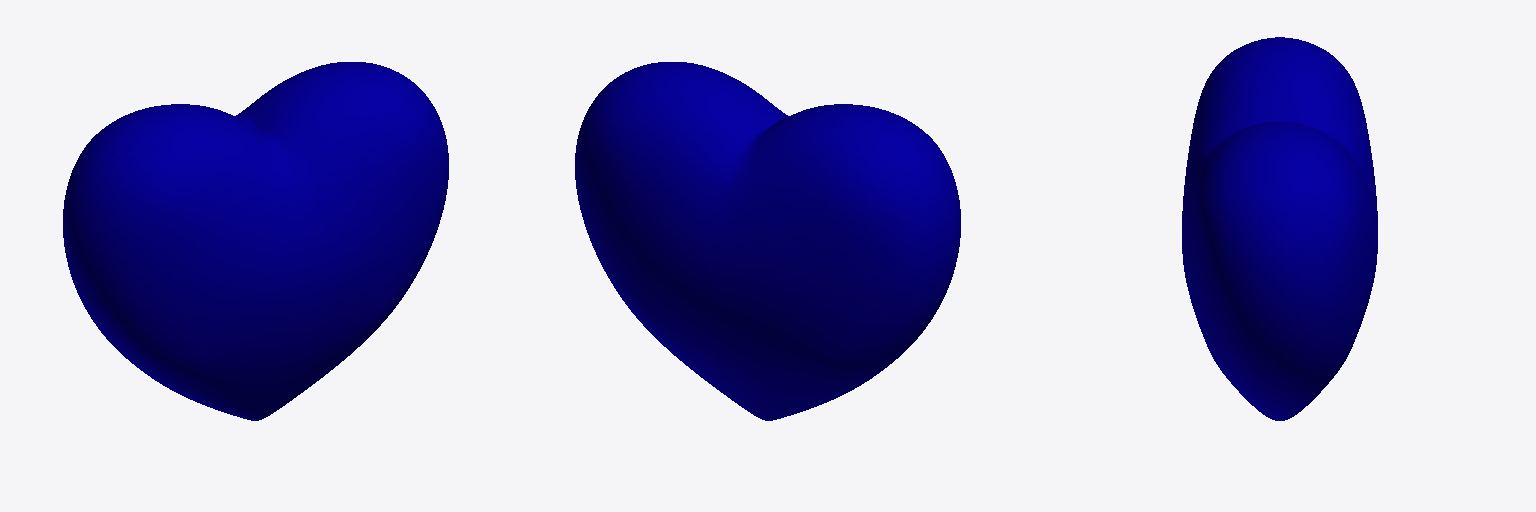
Rendered from love_heart_blue.obj.
3 views of the same model, side by side, from view 1: azimuth 30°, elevation 25°; view 2: azimuth 150°, elevation 25°; view 3: azimuth 270°, elevation 25° (orthographic).
Parts seen in each view (by area): view 1: Vert; view 2: Vert; view 3: Vert.
Boxes of the visible parts, x1=… form: Vert: x1=63, y1=62, x2=448, y2=420; Vert: x1=575, y1=62, x2=960, y2=420; Vert: x1=1182, y1=37, x2=1377, y2=420.
Bounding box in the file's own units: 0.6772 × 0.5789 × 0.314.